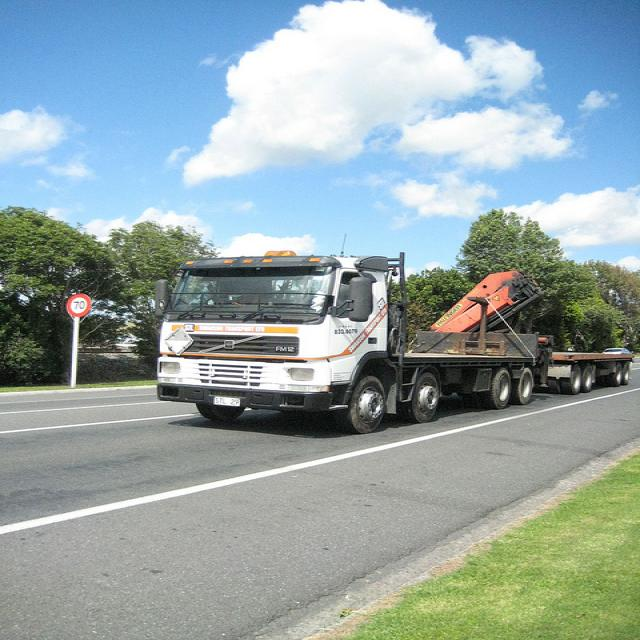Vehicle: (152, 250, 631, 433), (602, 347, 633, 354)
